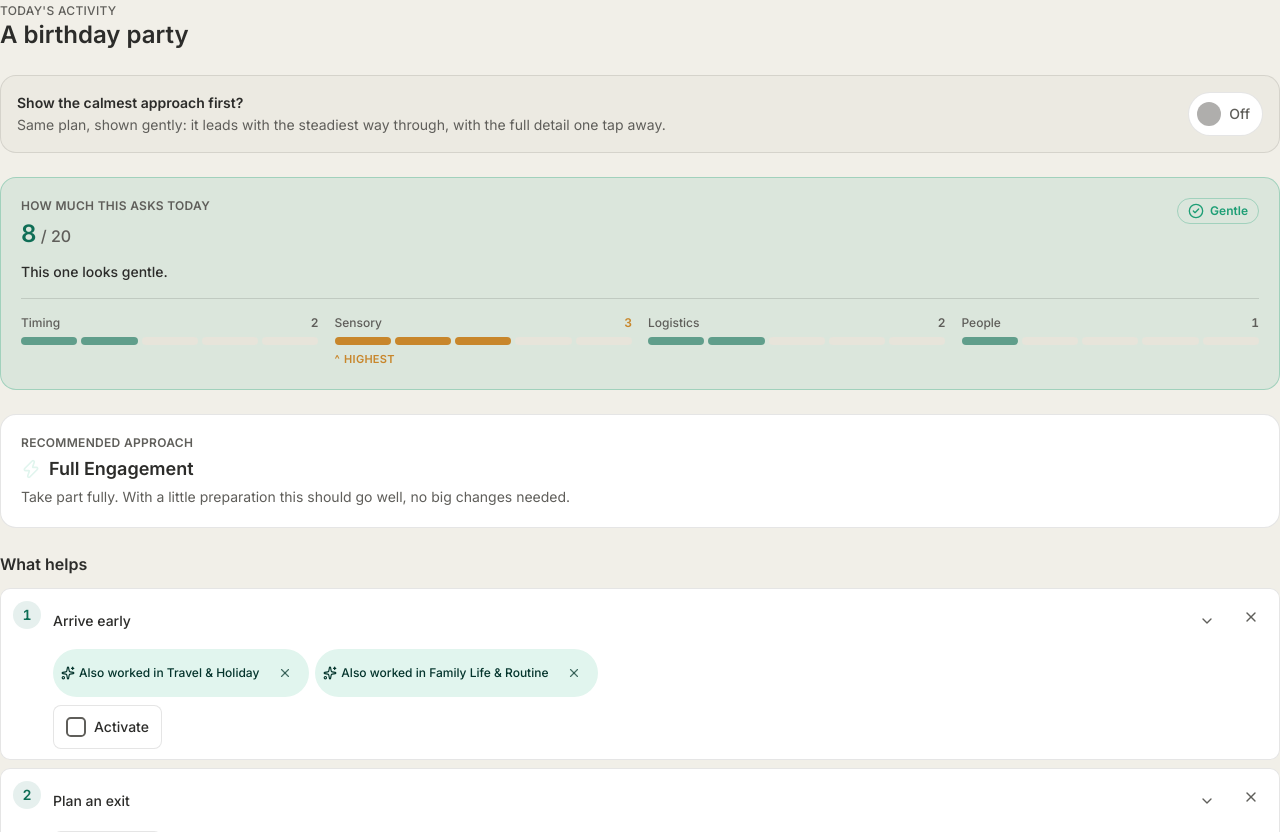
it: PreparationPlanView Strategy Library remove (Task 9) › offers a 'Removed strategies' re-allow affordance only after a removal, and restores on re-allow
Expected: the heading "removed strategies" is not shown
// Remove one, the re-allow section appears listing it.
Click the button named "remove plan an exit" in the row of "Plan an exit" at (1251, 797), box [1229,775,1273,819]
(page scrolled)
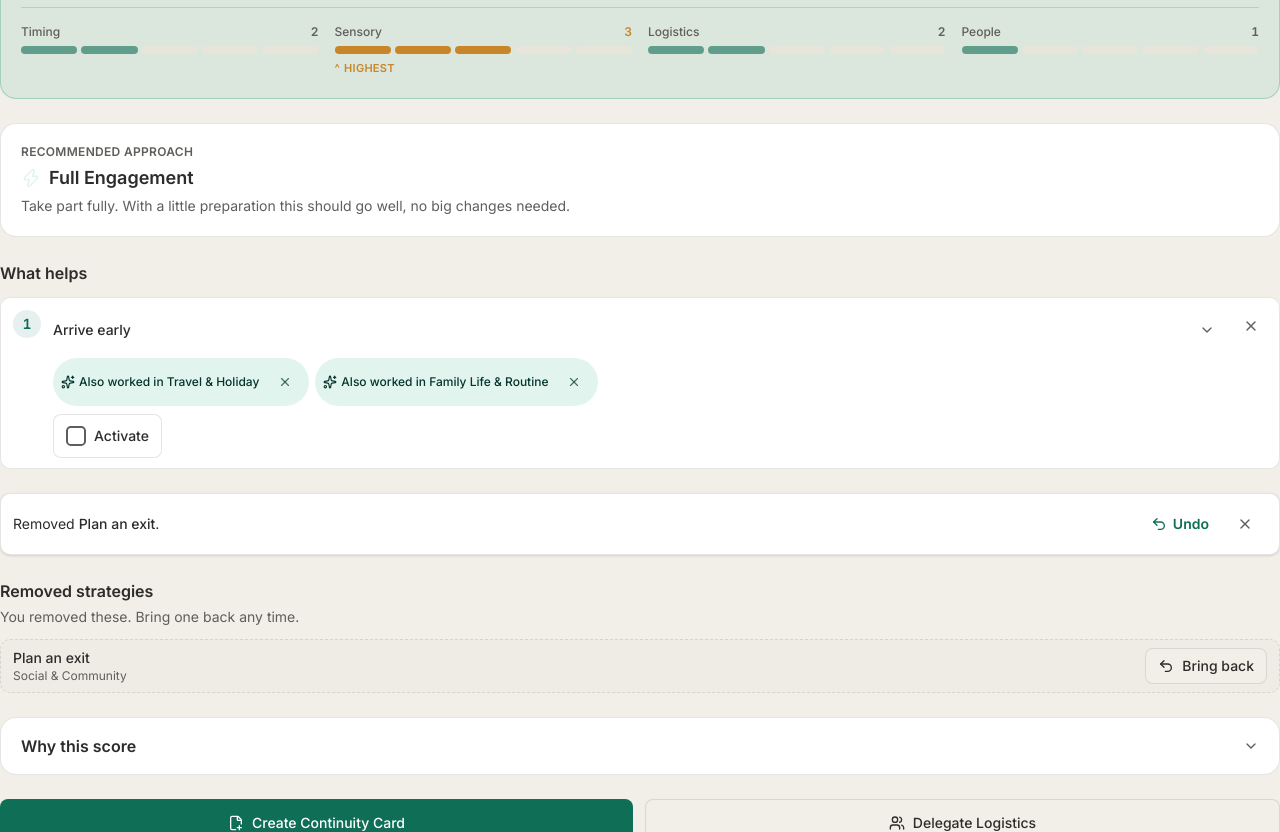
Now the text "Plan an exit" below "Removed strategies" is shown, box [13,649,90,666]
// Bring it back: the allow endpoint is called and it returns to the plan list.
Click the button "Bring back" at (1206, 666), box [1145,648,1267,684]
(page scrolled)
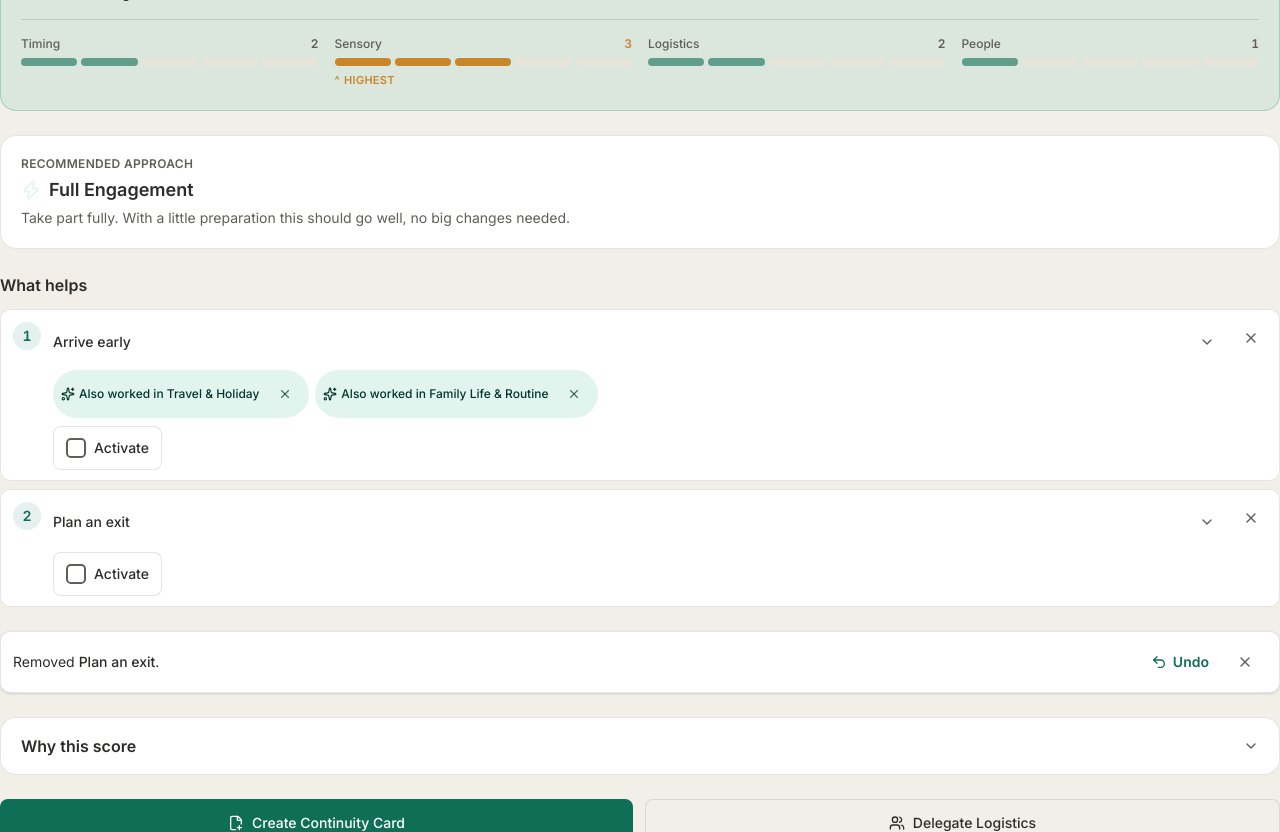
Expected: the text "Plan an exit" is shown, [53,512,130,532]
Now the heading "Removed strategies" is gone
